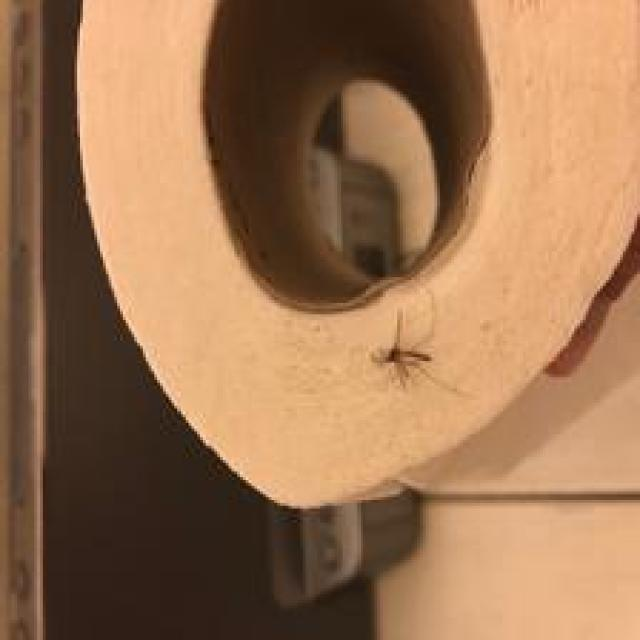Culex: (74, 0, 639, 511)
